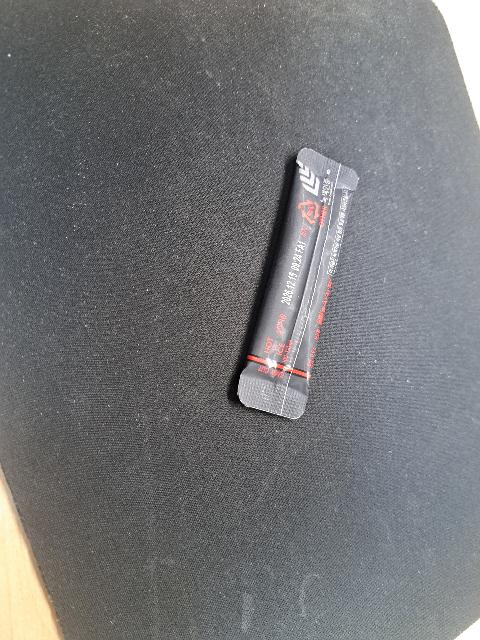KANU: (228, 121, 365, 444)
